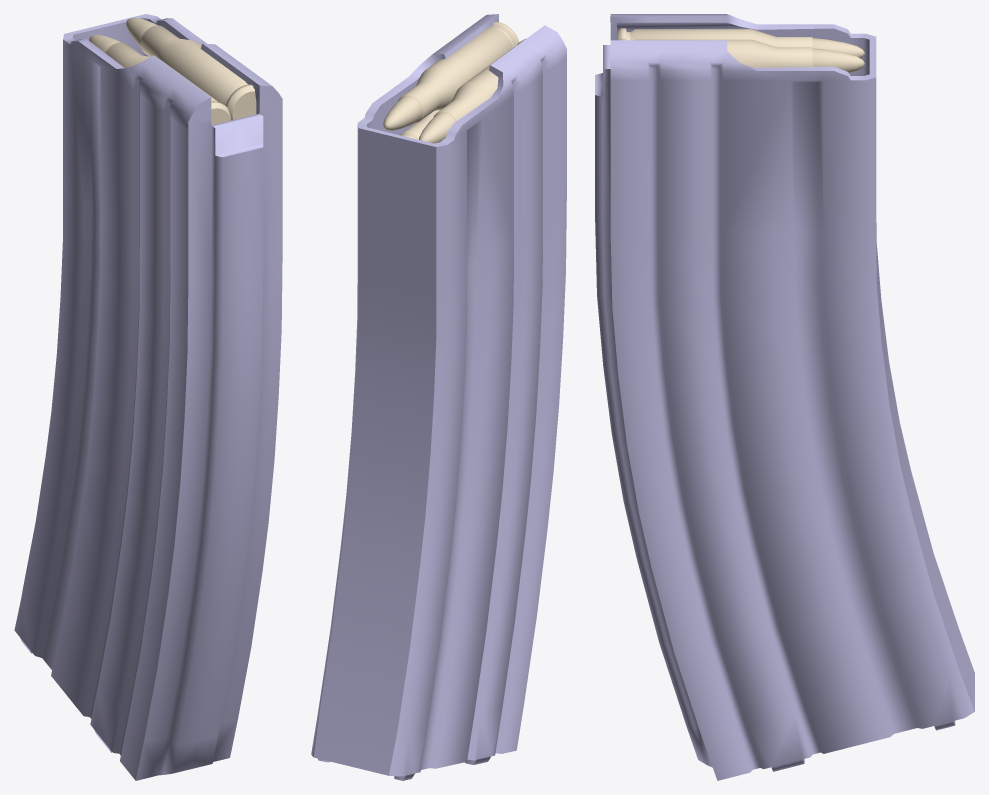
The model's file is magazine_MK18_556x45_Stanag_30rnd.fbx.
3 renders of one model, left to right at view 1: azimuth 30°, elevation 25°; view 2: azimuth 150°, elevation 25°; view 3: azimuth 270°, elevation 25°, orthographic. The views are drawn at different scales.
Parts seen in each view (by area): view 1: Magazine_MK18_556x45_Stanag_30rnd_LOD0, Cartridge_MK18_556x45_LOD0; view 2: Magazine_MK18_556x45_Stanag_30rnd_LOD0, Cartridge_MK18_556x45_LOD0; view 3: Magazine_MK18_556x45_Stanag_30rnd_LOD0, Cartridge_MK18_556x45_LOD0.
Boxes of the visible parts, x1,y1,x2,y2 form: Magazine_MK18_556x45_Stanag_30rnd_LOD0: (14, 14, 282, 780); Cartridge_MK18_556x45_LOD0: (89, 17, 256, 125); Magazine_MK18_556x45_Stanag_30rnd_LOD0: (311, 14, 566, 780); Cartridge_MK18_556x45_LOD0: (383, 22, 525, 143); Magazine_MK18_556x45_Stanag_30rnd_LOD0: (595, 14, 974, 780); Cartridge_MK18_556x45_LOD0: (617, 28, 865, 72).
Size of what is drawn, in the model's own units: 2.55 by 18.52 by 8.74.
